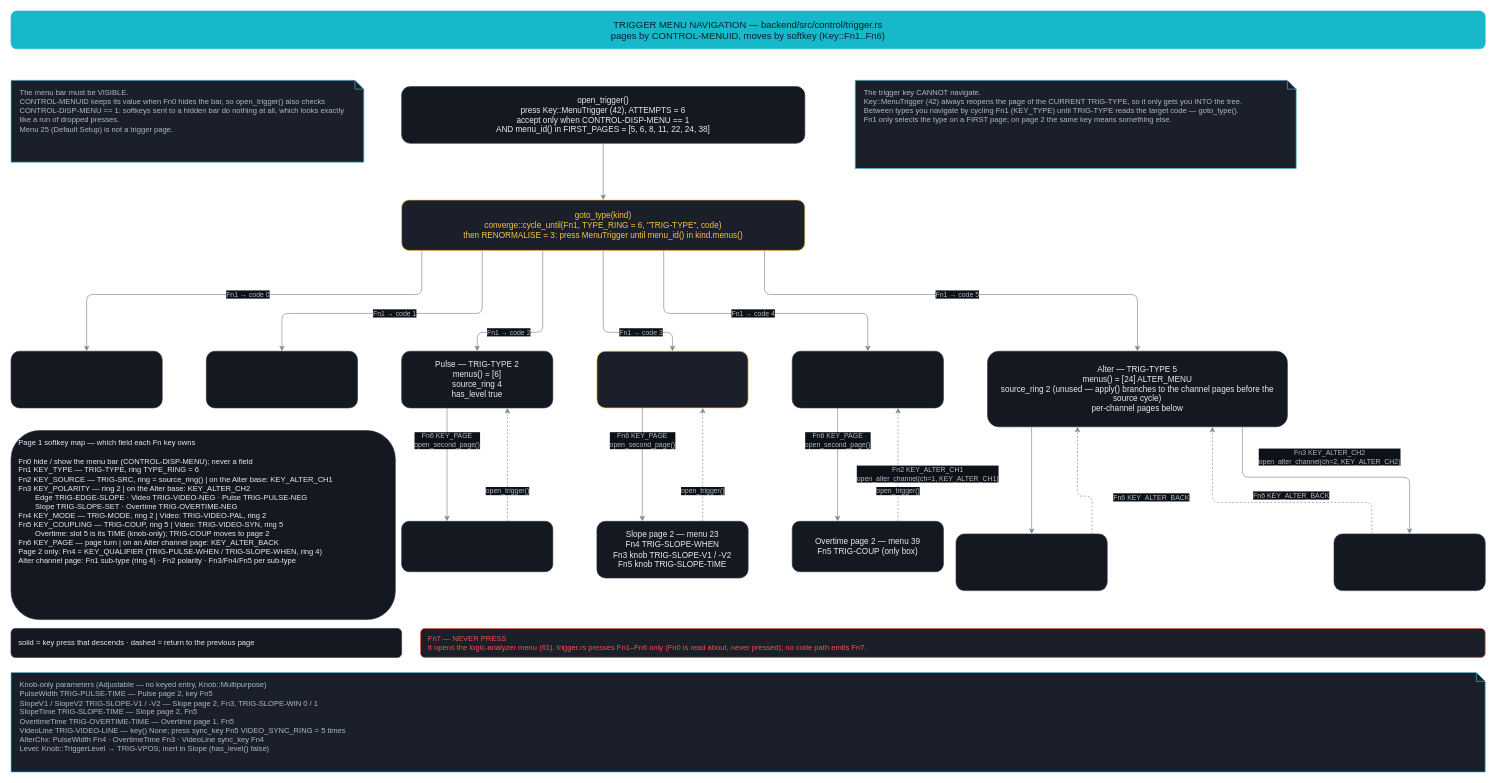
Image size: 1496x783. Some labels were removed from this diagram. The box of each missing label's shape, as (x1, y1, x2, y2) in pixels:
Alter CH1 pages Edge 26 · Pulse 27 Video 28 · Overtime 29 Fn1 TRIG-SWAP-CH1-TYPE: (955, 533, 1107, 591)
Alter CH2 pages Edge 30 · Pulse 31 Video 32 · Overtime 33 Fn1 TRIG-SWAP-CH2-TYPE: (1333, 533, 1485, 591)
Edge — TRIG-TYPE 0 menus() = [5, 11] source_ring 5 has_level true: (10, 351, 162, 408)
Overtime — TRIG-TYPE 4 menus() = [38] source_ring 2 has_level true: (792, 351, 943, 408)
Pulse page 2 — menu 7 Fn4 TRIG-PULSE-WHEN Fn5 knob TRIG-PULSE-TIME: (401, 521, 553, 572)
Slope — TRIG-TYPE 3 menus() = [22] source_ring 4 has_level FALSE: (596, 351, 748, 408)
Video — TRIG-TYPE 1 menus() = [8] source_ring 4 has_level true: (206, 351, 358, 408)
